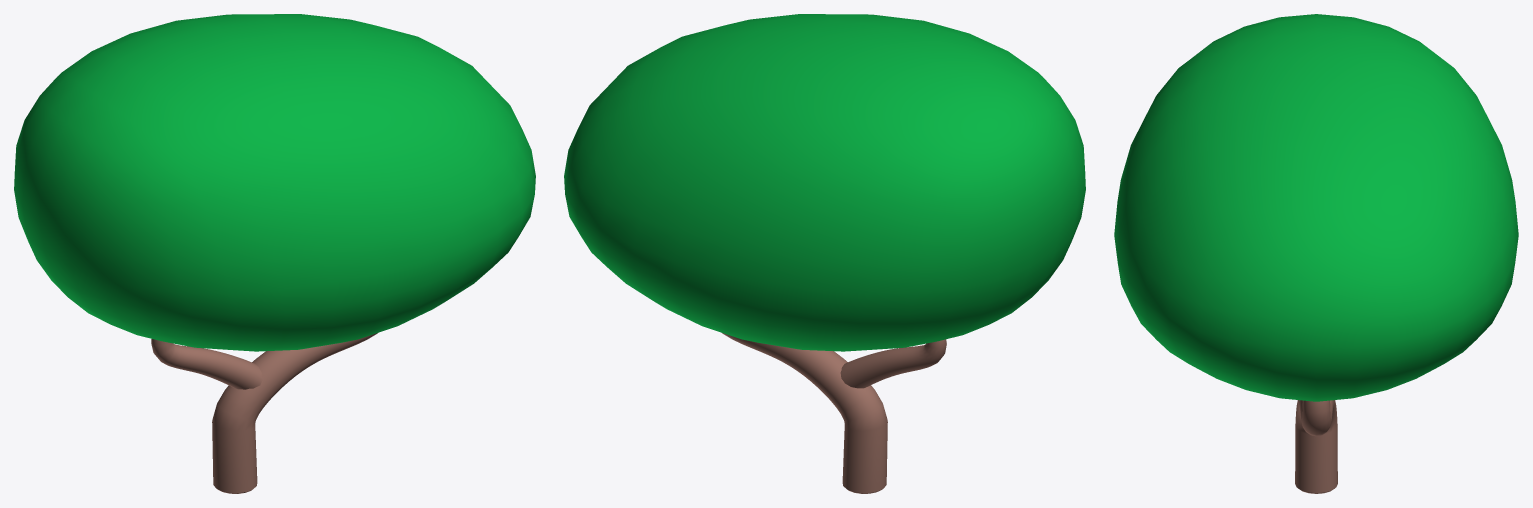
Rendered from Farm_20_Bush_2.glb.
The picture shows the model from 3 angles, left to right: view 1: azimuth 30°, elevation 25°; view 2: azimuth 150°, elevation 25°; view 3: azimuth 270°, elevation 25°; orthographic projection. The views are drawn at different scales.
Parts seen in each view (by area): view 1: Farm_20_Bush_2; view 2: Farm_20_Bush_2; view 3: Farm_20_Bush_2.
Part boxes in pixels (x1,y1,x2,y2): Farm_20_Bush_2: (14, 14, 535, 493); Farm_20_Bush_2: (564, 14, 1085, 493); Farm_20_Bush_2: (1114, 14, 1518, 493).
Size of the model in its own units: 1.41 by 1.27 by 1.09.
1 material, 1 textured.
